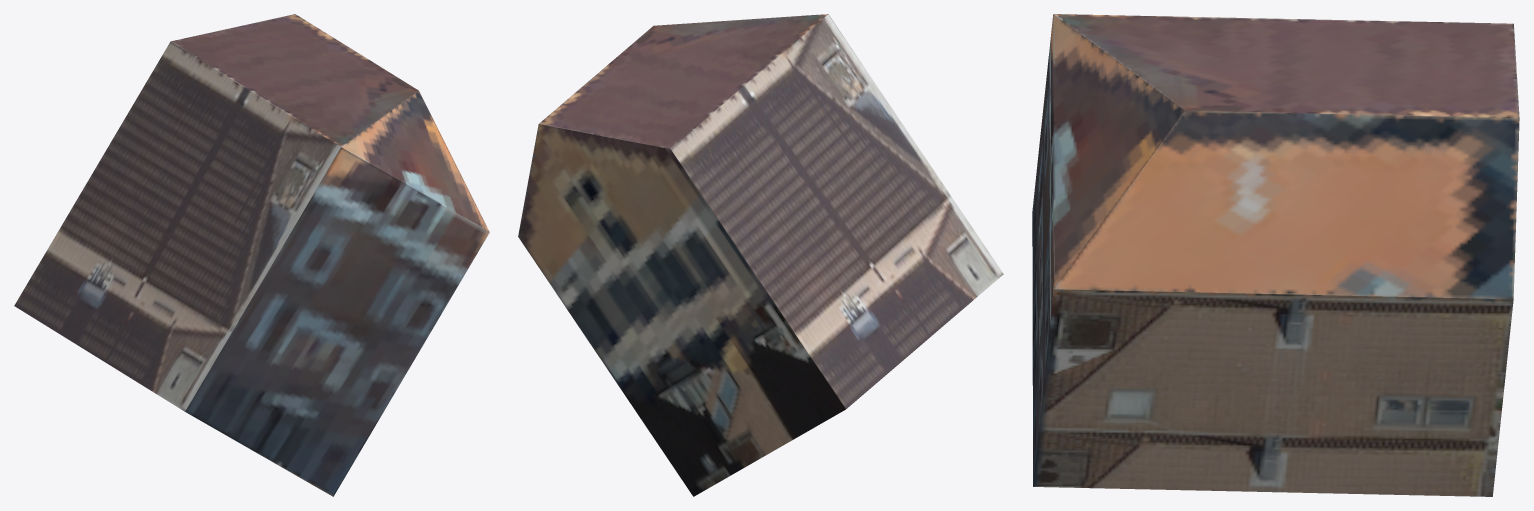
3 views of the same model, side by side, from view 1: azimuth 30°, elevation 25°; view 2: azimuth 150°, elevation 25°; view 3: azimuth 270°, elevation 25° (orthographic). The views are drawn at different scales.
Visible parts, largest first — view 1: BAG_0599100000760394; view 2: BAG_0599100000760394 (×2); view 3: BAG_0599100000760394 (×2).
Part boxes in pixels (x1,y1,x2,y2): BAG_0599100000760394: (14, 14, 489, 496); BAG_0599100000760394 (×2): (518, 14, 1003, 496); BAG_0599100000760394 (×2): (1032, 14, 1519, 496).
Size of the model in its own units: 13.42 by 14.07 by 12.44.
3 materials, 3 textured.
